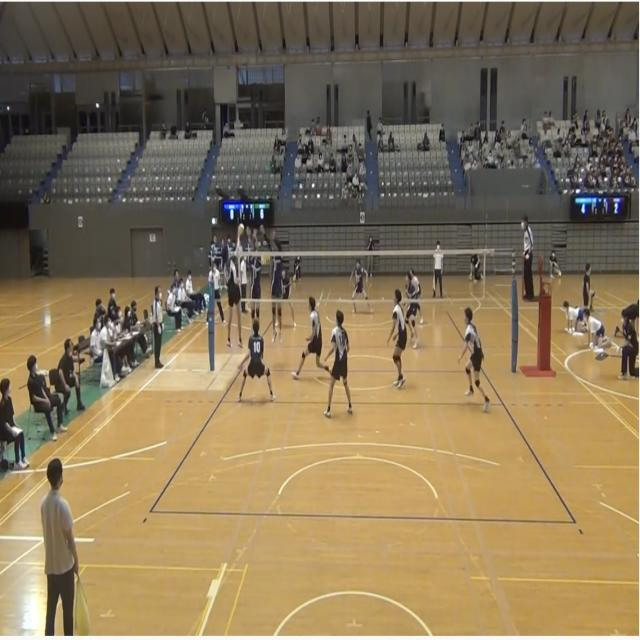spike: (219, 221, 248, 353)
